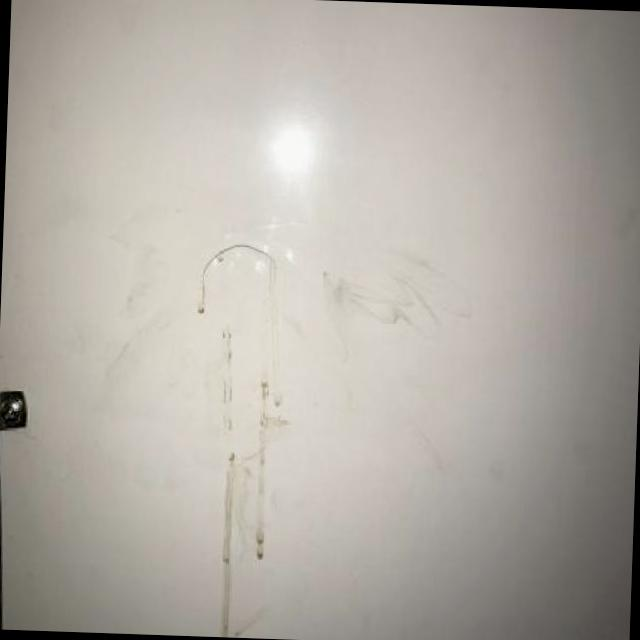crack: (197, 239, 282, 316)
